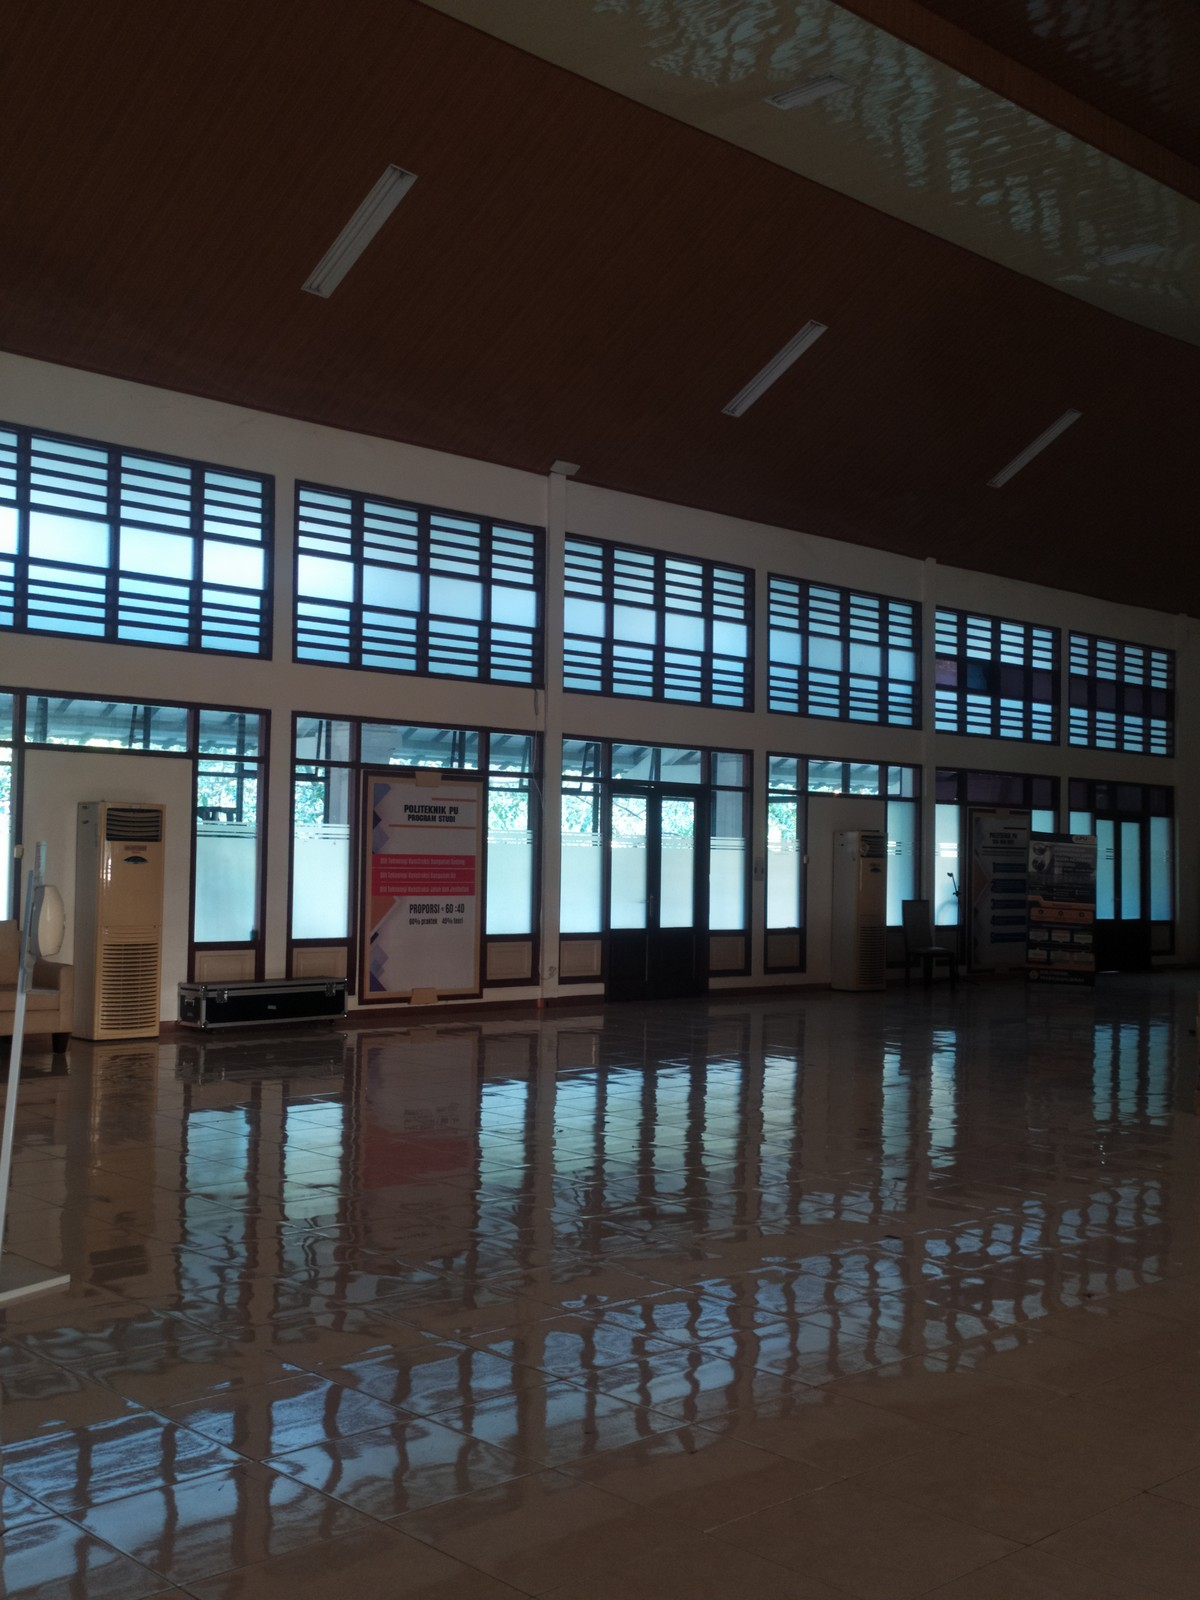concrete column: (532, 469, 570, 1008)
